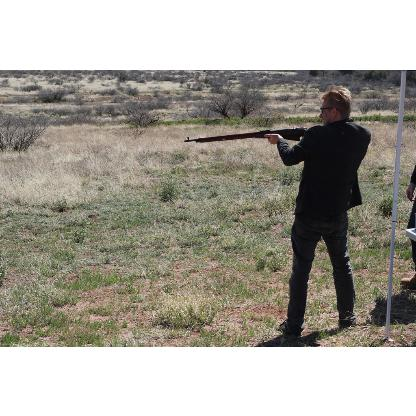gun: (183, 126, 308, 142)
